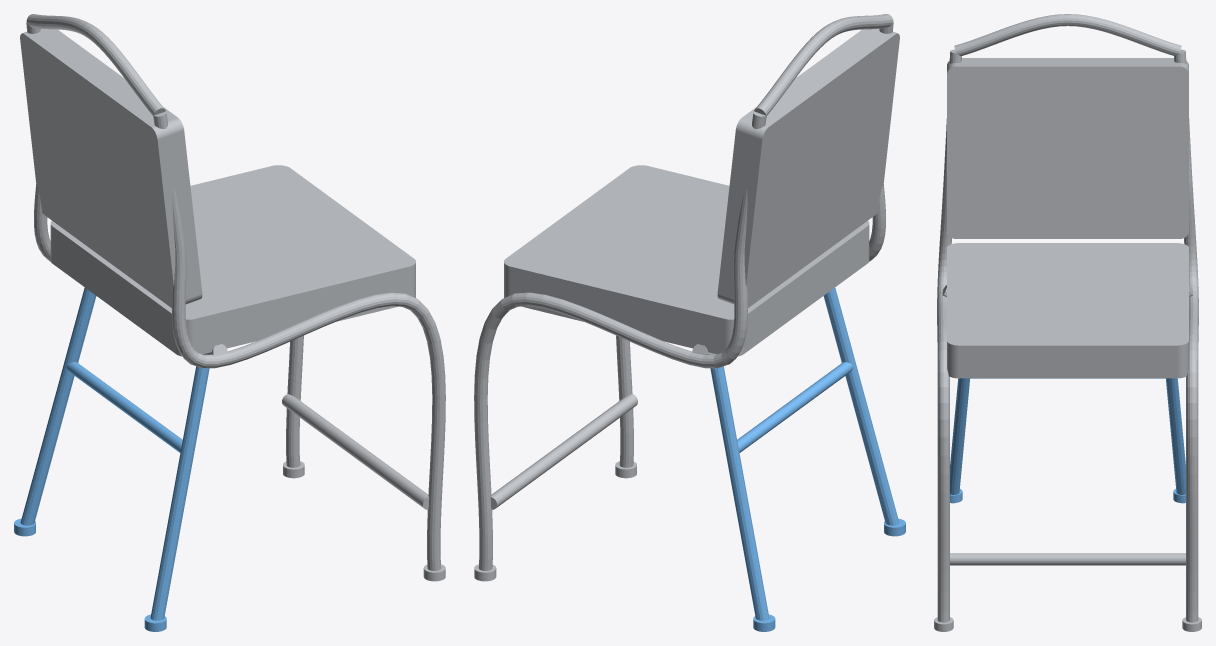
Rendered from parts.glb.
3 views of the same model, side by side, from view 1: azimuth 30°, elevation 25°; view 2: azimuth 150°, elevation 25°; view 3: azimuth 270°, elevation 25° (orthographic). The views are drawn at different scales.
Visible parts, largest first — view 1: visual_0_0, visual_1_0; view 2: visual_0_0, visual_1_0; view 3: visual_0_0, visual_1_0.
Part boxes in pixels (x1,y1,x2,y2): visual_0_0: (20, 14, 445, 581); visual_1_0: (14, 287, 209, 631); visual_0_0: (474, 14, 899, 581); visual_1_0: (710, 287, 905, 631); visual_0_0: (934, 14, 1201, 631); visual_1_0: (950, 378, 1185, 503).
Bounding box in the file's own units: 0.4932 × 0.9055 × 0.442.
